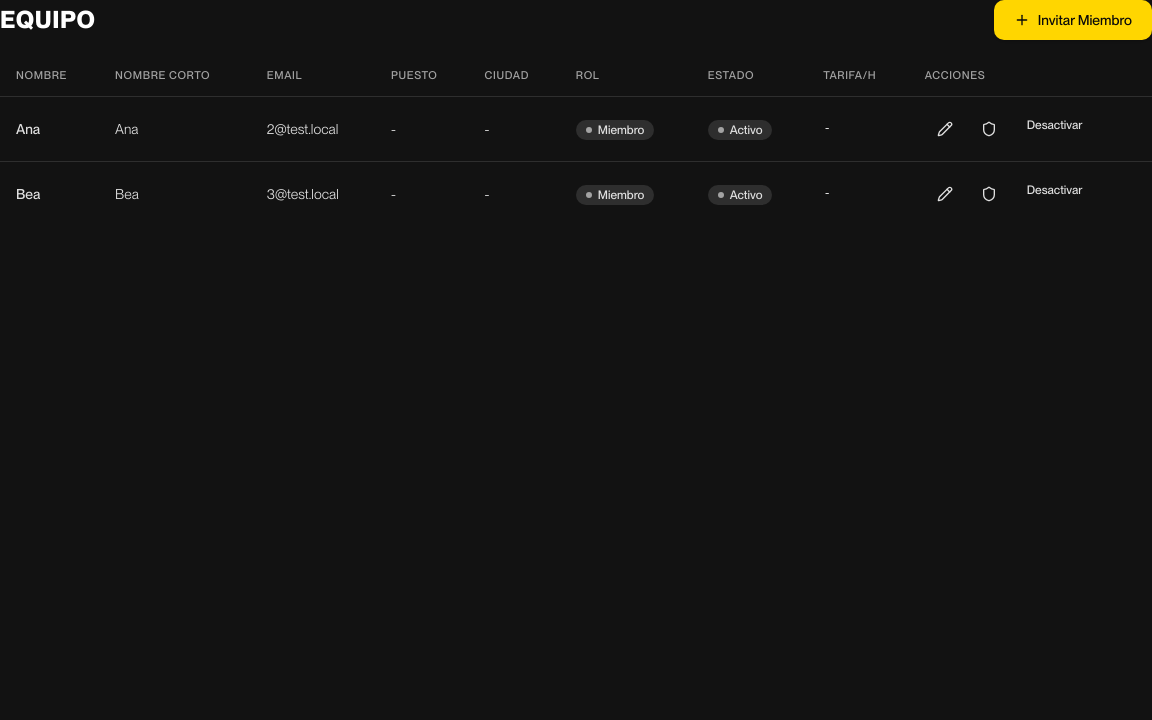
Test: UsersPage safe reads › never exposes A permissions while B is denied and enables save only after B succeeds
Click the button named "Permisos" in the row of "2@test.local": (989, 128) x1=969 y1=108 x2=1009 y2=148
(page scrolled)
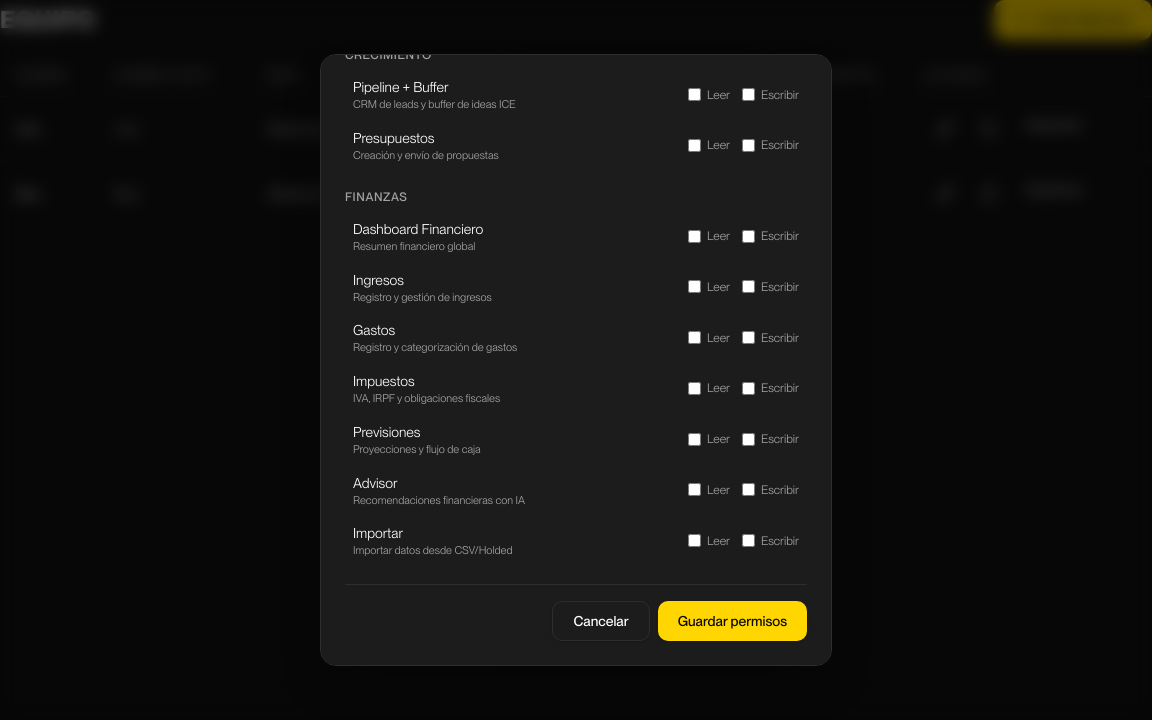
Click the button "Cancelar": (601, 621) x1=552 y1=601 x2=650 y2=641
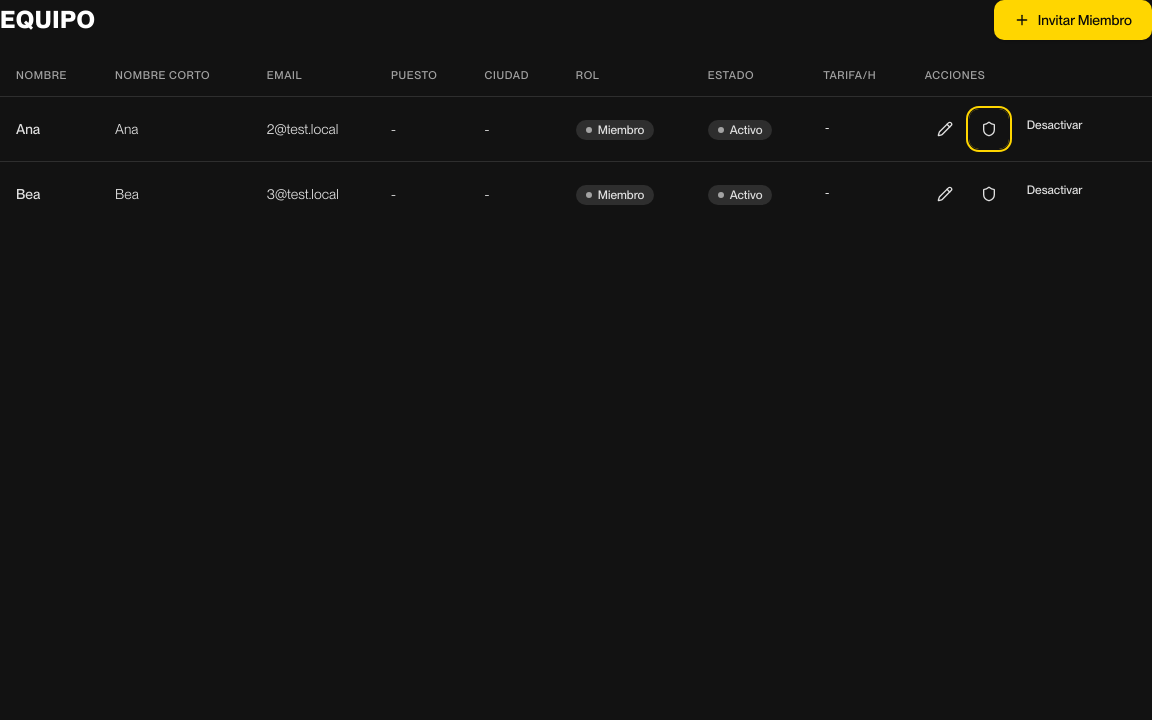
Click the button named "Permisos" in the row of "3@test.local": (989, 194) x1=969 y1=174 x2=1009 y2=214
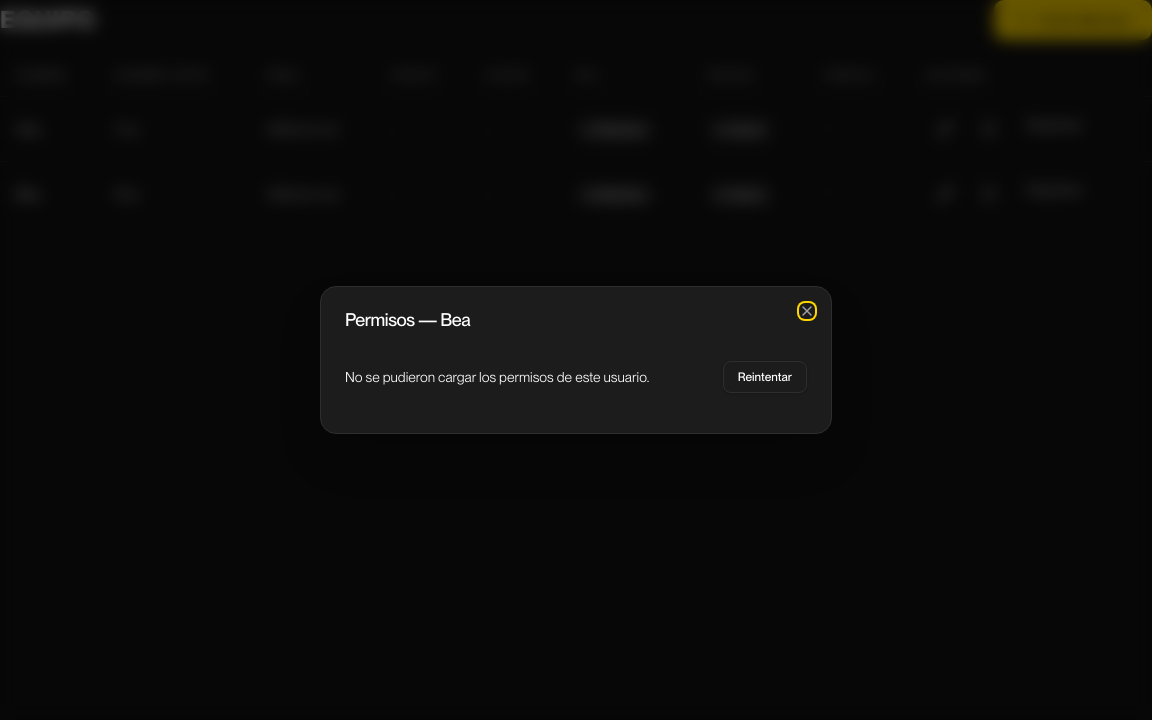
Expected: the label "Leer" is not shown
Result: the message shows "No se pudieron cargar los permisos" at x1=345 y1=369 x2=649 y2=385
Click the button "Reintentar": (765, 377) x1=723 y1=361 x2=807 y2=393
(page scrolled)
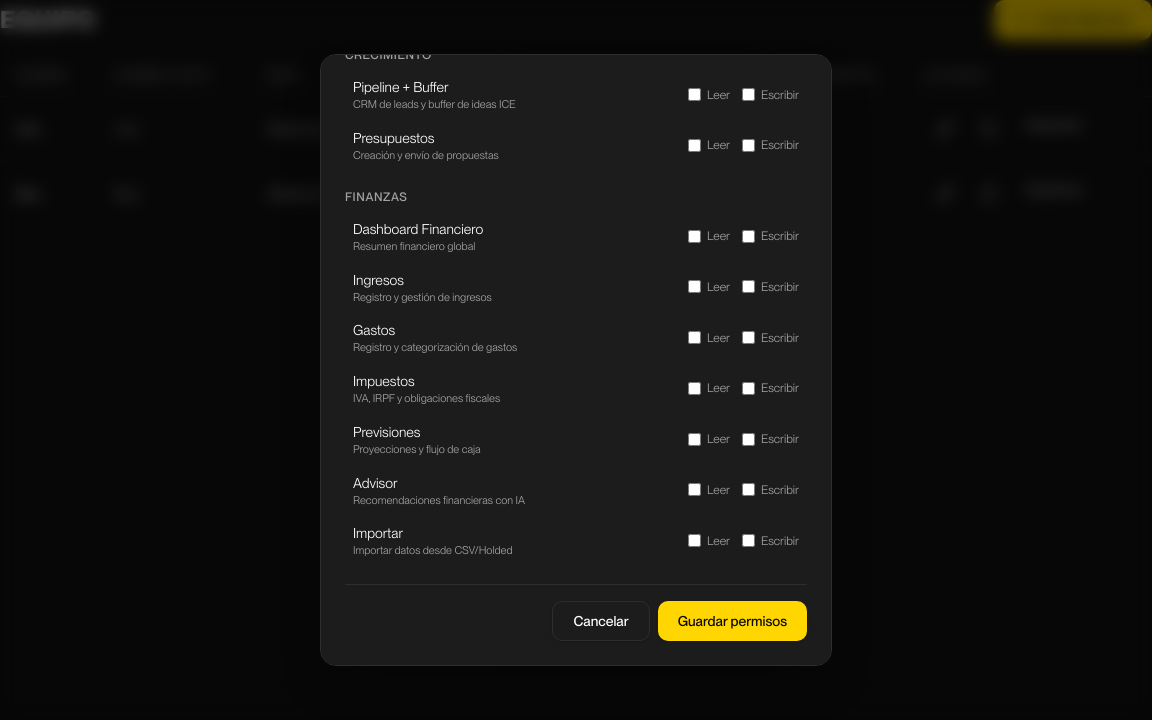
Result: the button "Guardar permisos" is enabled at x1=658 y1=601 x2=807 y2=641
